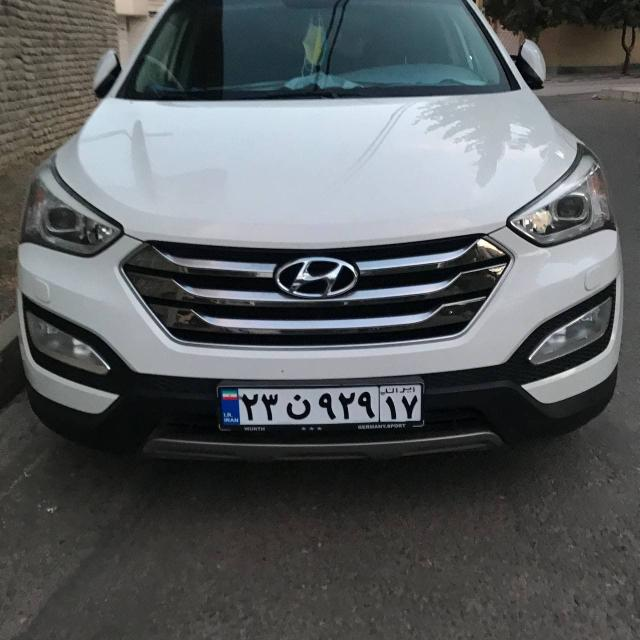Plates: (220, 385, 422, 426)
